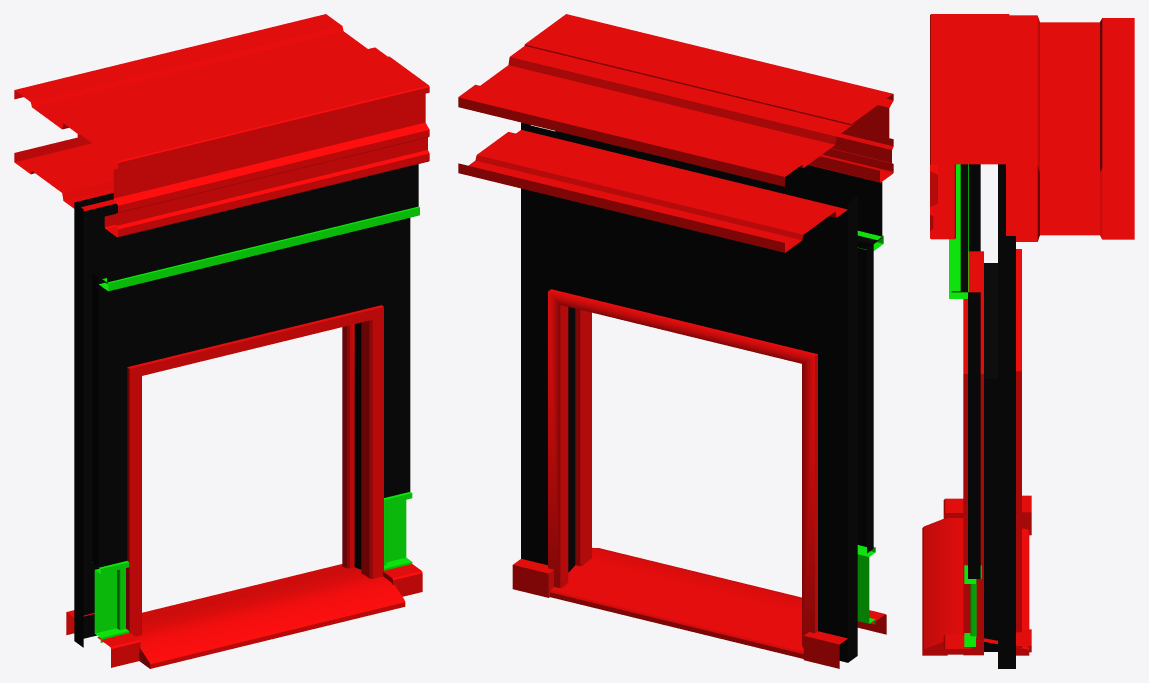
File: SM_Shop_Doorway1.FBX
The picture shows the model from 3 angles, left to right: view 1: azimuth 30°, elevation 25°; view 2: azimuth 150°, elevation 25°; view 3: azimuth 270°, elevation 25°; orthographic projection. The views are drawn at different scales.
Parts seen in each view (by area): view 1: SM_Shop_Doorway1; view 2: SM_Shop_Doorway1; view 3: SM_Shop_Doorway1.
Part boxes in pixels (x1,y1,x2,y2): SM_Shop_Doorway1: (14, 14, 429, 668); SM_Shop_Doorway1: (458, 14, 893, 668); SM_Shop_Doorway1: (922, 14, 1134, 668).
Bounding box in the file's own units: 300 × 179 × 470.
